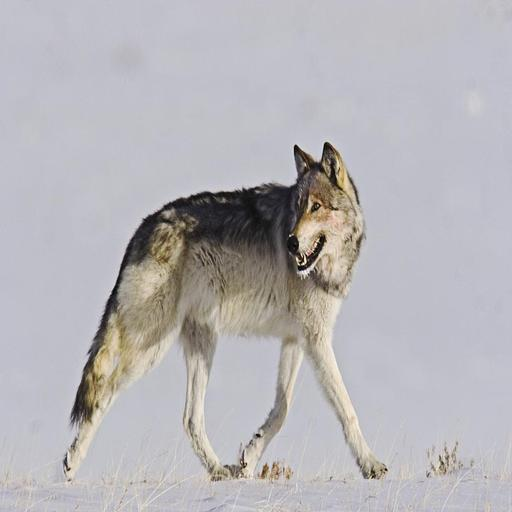Wolf: (55, 139, 399, 485)
